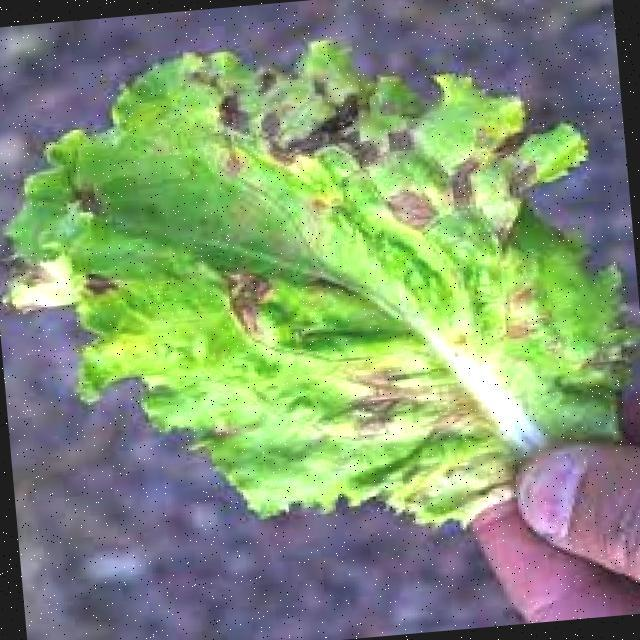Septoria_Blight: (206, 96, 522, 480)
